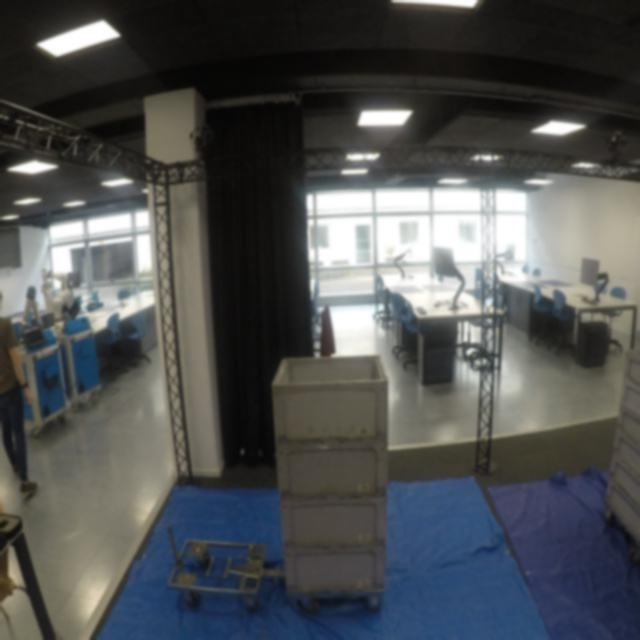Box4G: (271, 352, 390, 445), (276, 436, 389, 497), (278, 494, 388, 551), (280, 544, 388, 598)
